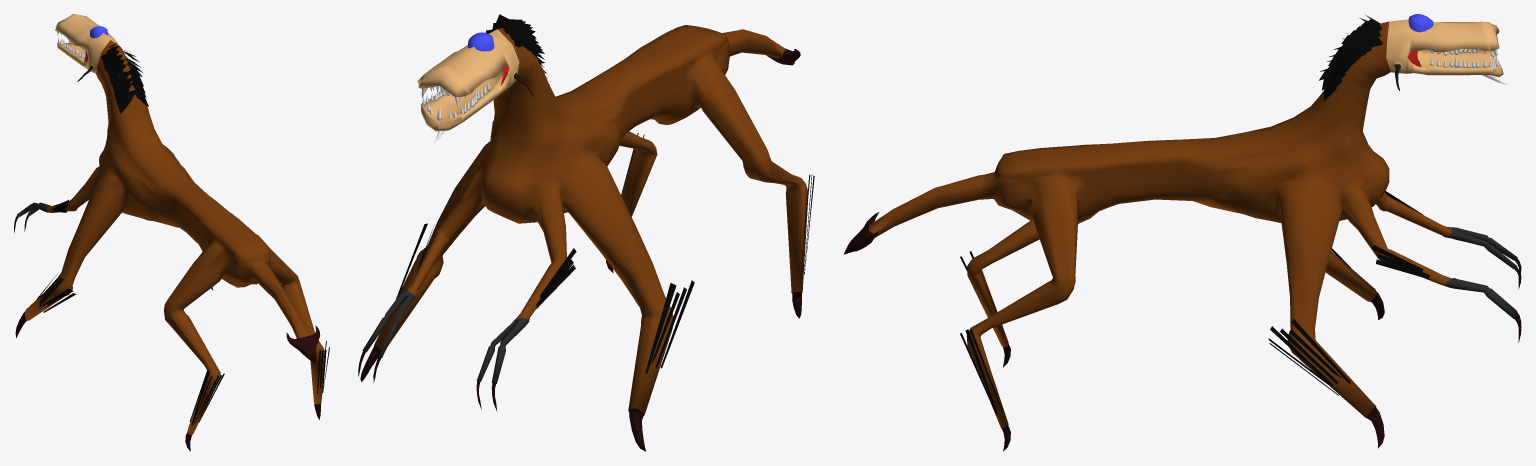
The model's file is Xenomorph.FBX.
3 renders of one model, left to right at view 1: azimuth 30°, elevation 25°; view 2: azimuth 150°, elevation 25°; view 3: azimuth 270°, elevation 25°, orthographic. The views are drawn at different scales.
Parts seen in each view (by area): view 1: A.Arborenesis; view 2: A.Arborenesis, Teeth; view 3: A.Arborenesis, Teeth.
Boxes of the visible parts, x1=… form: A.Arborenesis: x1=14, y1=14, x2=329, y2=451; A.Arborenesis: x1=358, y1=14, x2=814, y2=451; Teeth: x1=421, y1=82, x2=490, y2=144; A.Arborenesis: x1=843, y1=15, x2=1521, y2=451; Teeth: x1=1423, y1=34, x2=1507, y2=84.
Size of the model in its own units: 486 by 696 by 1084.
